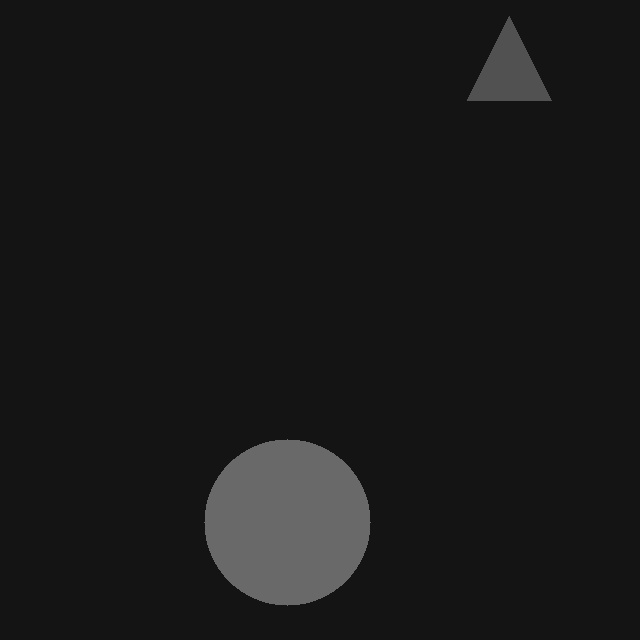circle: (204, 439, 370, 605)
triangle: (467, 16, 551, 100)
